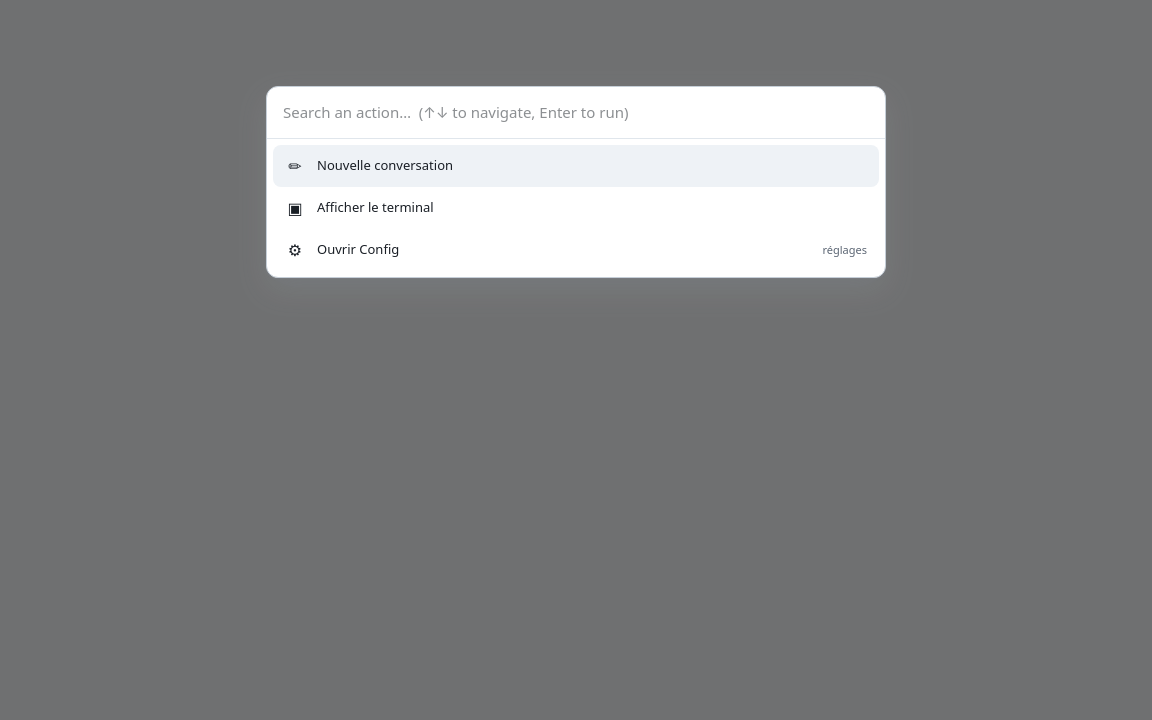
it: CommandPalette › filters by label, keyword and hint
Type "shell" into the field at (576, 113), box x1=267 y1=87 x2=885 y2=139
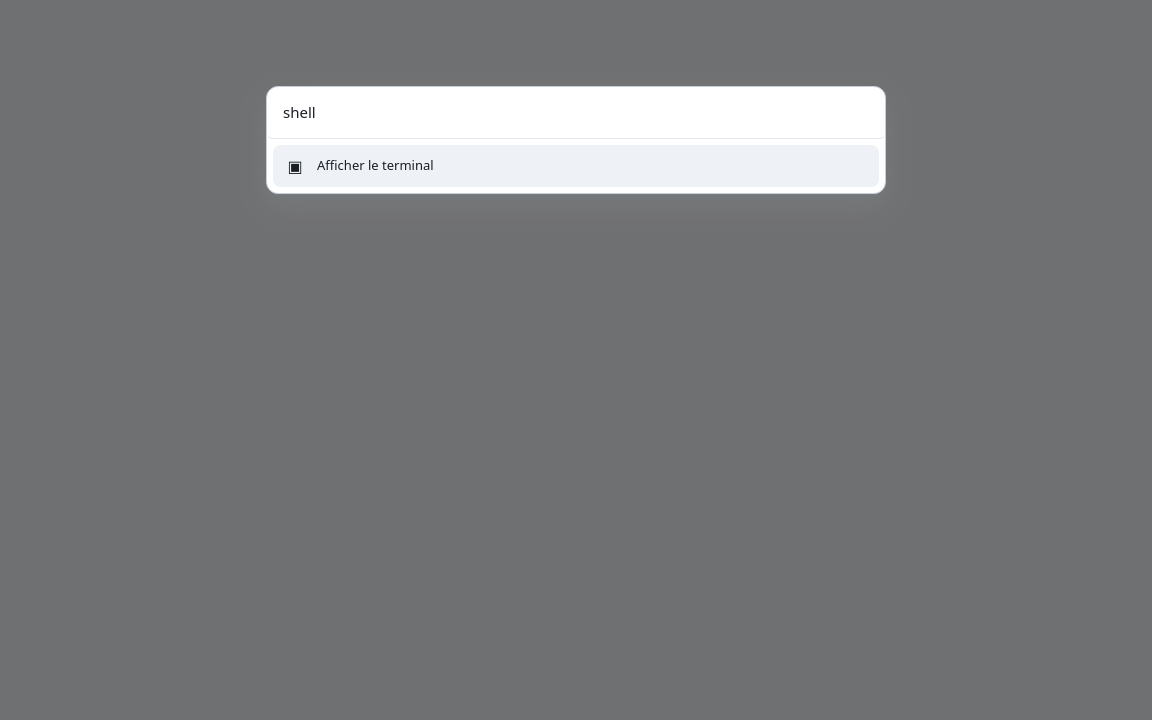
Expected: the text "Afficher le terminal" is shown, x1=317 y1=156 x2=434 y2=174
Result: the text "Nouvelle conversation" is gone
